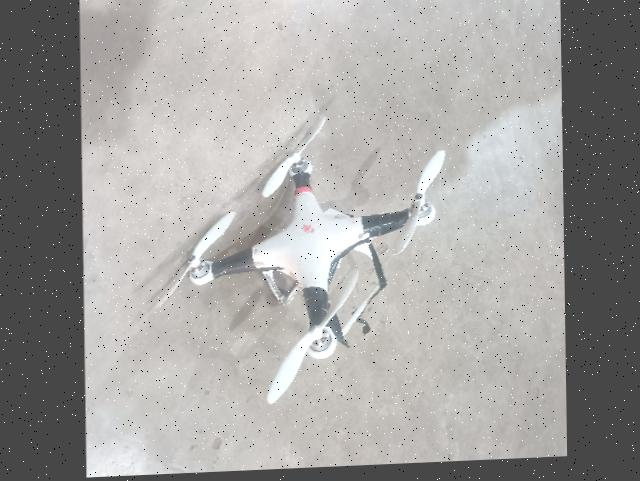drone: (172, 88, 461, 417)
